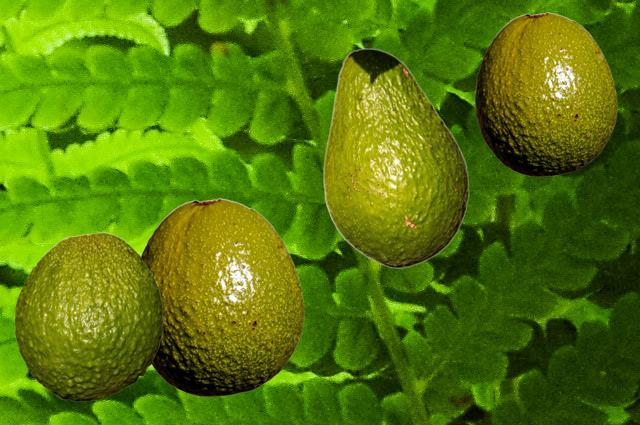avocado: (141, 198, 303, 395), (323, 48, 468, 267), (14, 232, 162, 400), (475, 12, 616, 175)
